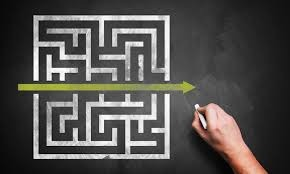maze: (33, 15, 170, 159)
